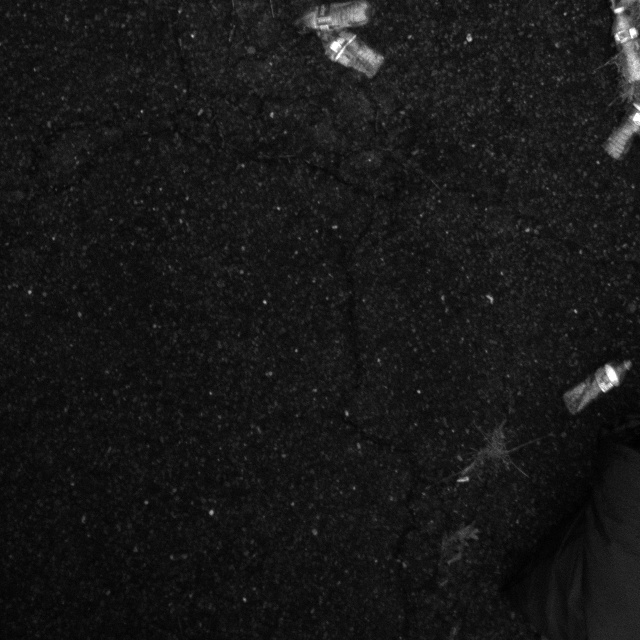bottle: (563, 353, 637, 418), (323, 25, 385, 78)
